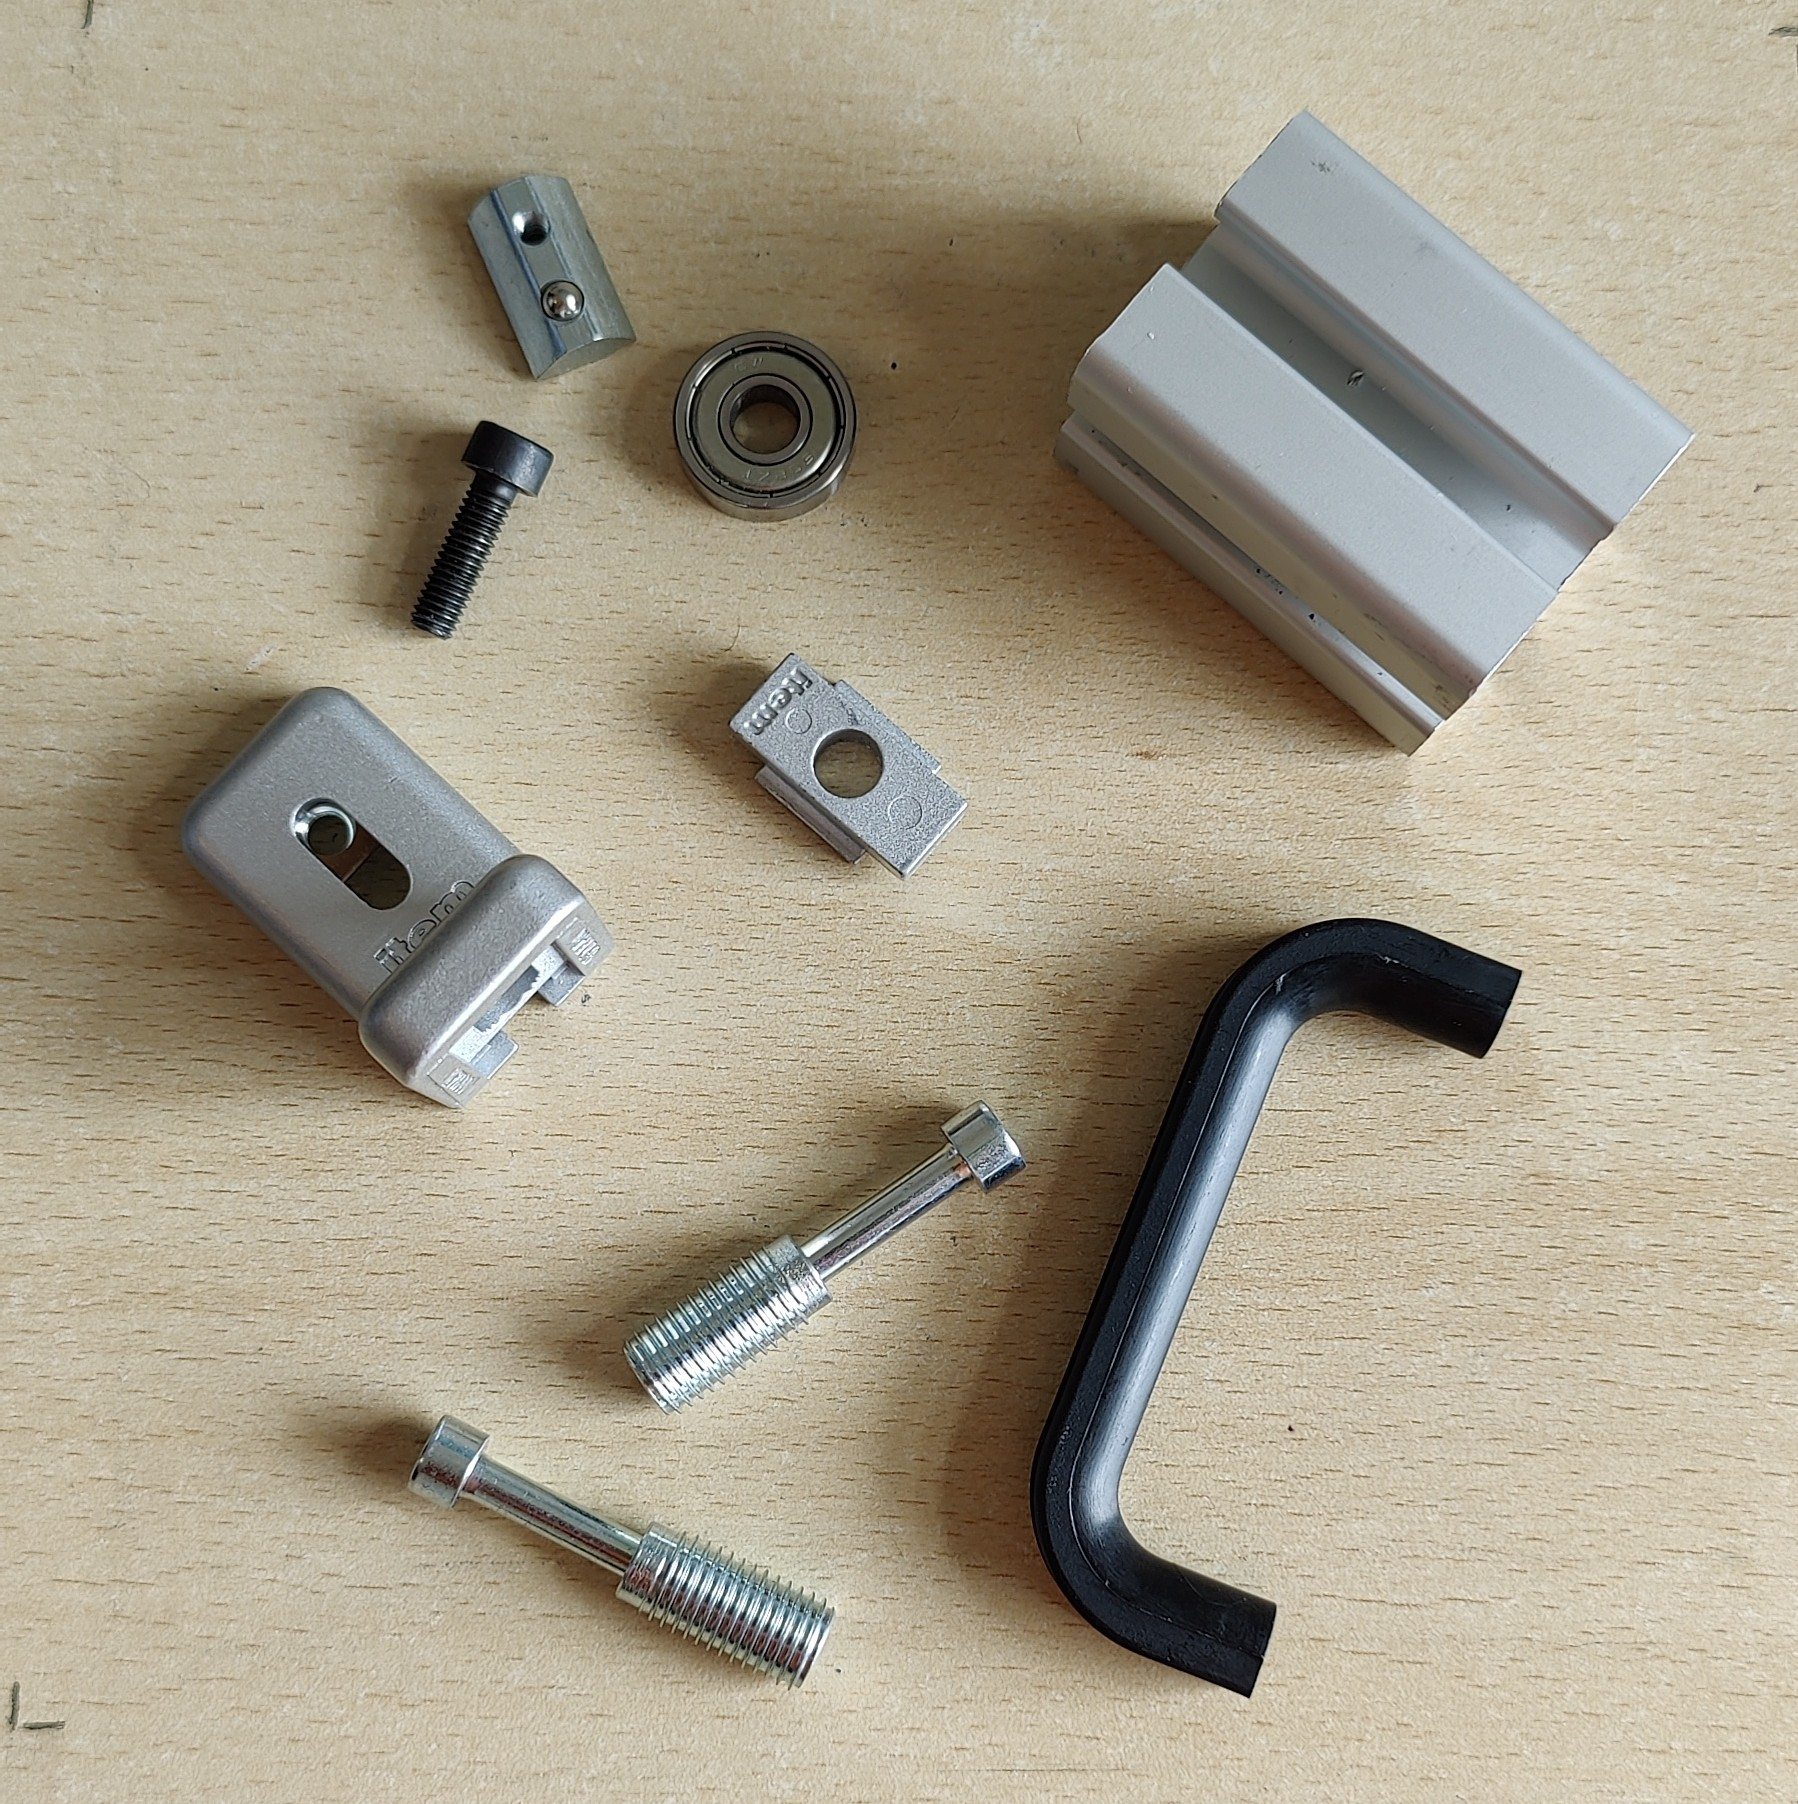Aluminium Extension: (1047, 105, 1703, 762)
Ball Bearing: (670, 324, 858, 525)
Multiwinkel: (176, 685, 617, 1111)
Pull Handle: (1026, 917, 1525, 1700)
Shoulder Socket Head Cap Screw: (617, 1100, 1029, 1417), (403, 1411, 840, 1694)
Socket Head Cap Screw: (407, 415, 557, 642)
T Nut Square: (724, 649, 970, 886)
T Spring Nut: (464, 166, 639, 382)
